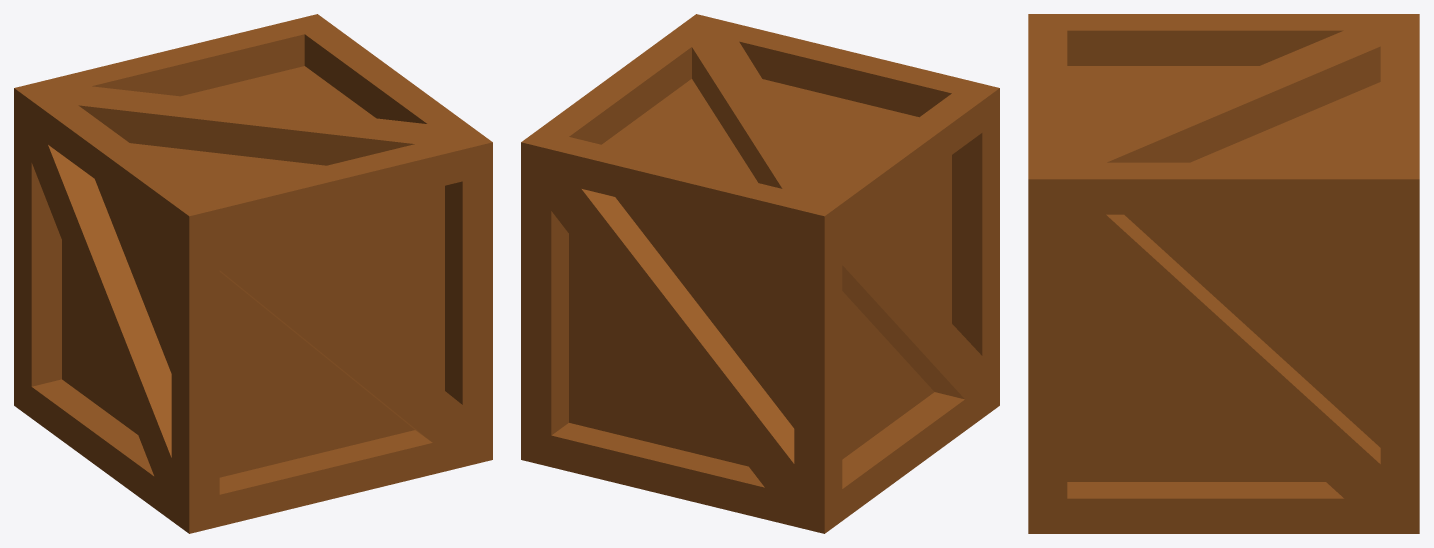
File: Obstacle.fbx
3 renders of one model, left to right at view 1: azimuth 30°, elevation 25°; view 2: azimuth 150°, elevation 25°; view 3: azimuth 270°, elevation 25°, orthographic. The views are drawn at different scales.
Parts seen in each view (by area): view 1: Crate; view 2: Crate; view 3: Crate.
Part boxes in pixels (left/top/right/bottom): Crate: left=14, top=14, right=492, bottom=533; Crate: left=521, top=14, right=999, bottom=533; Crate: left=1028, top=14, right=1419, bottom=533.
Size of the model in its own units: 200 by 200 by 200.
